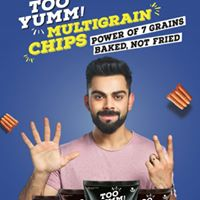plastic: (31, 183, 171, 200)
tooyumm: (17, 1, 93, 31), (97, 189, 126, 200)
wrapper: (84, 181, 168, 200)
